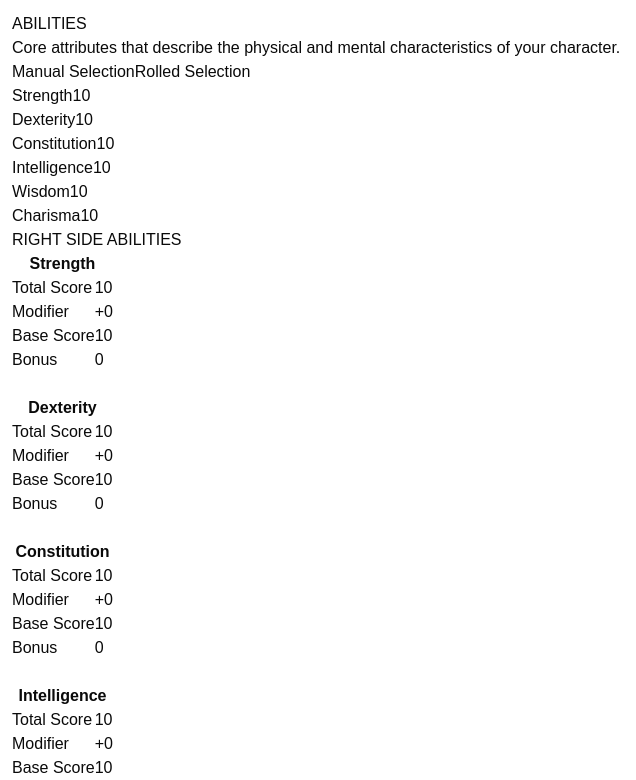
Test: Abilities: Rolled Selection › Rows six unrolled placeholders before rolling
Click the button "Rolled Selection". click: (193,72)
box: [135,60,250,84]
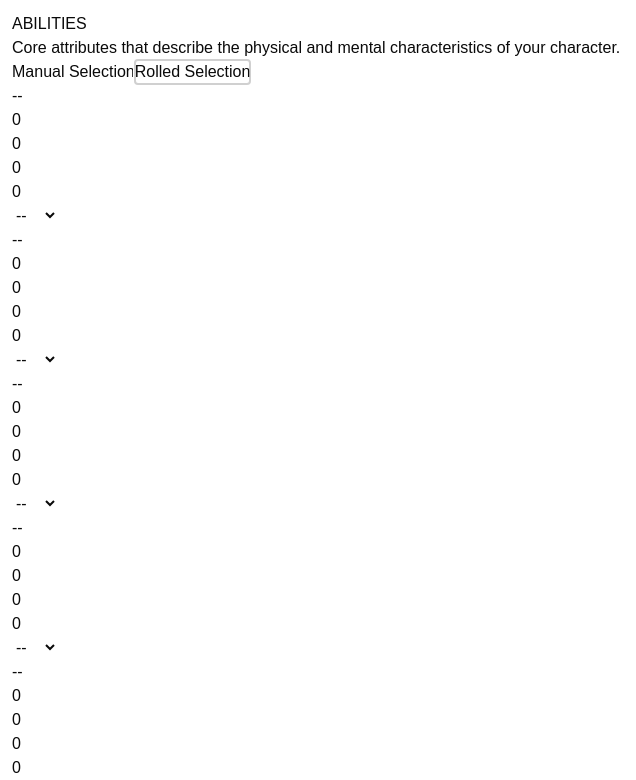
Check: the number of dropdowns is 6
Check: the number of elements with class "Unrolled" is 24
